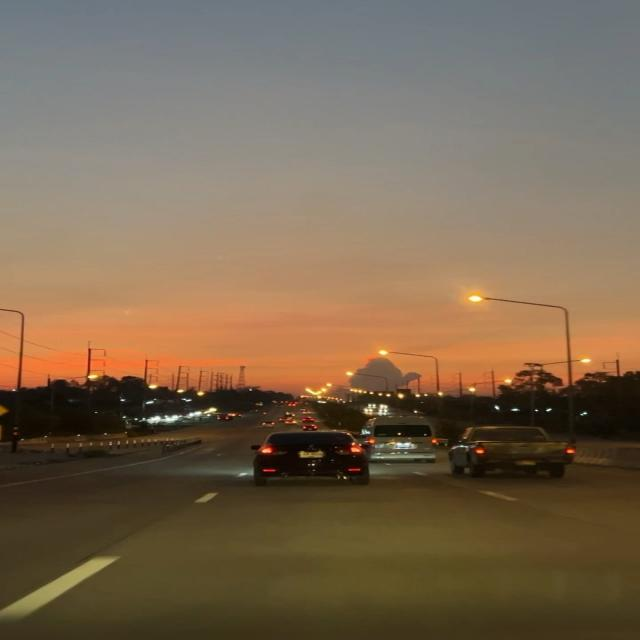Poth-hole: (3, 498, 640, 622)
